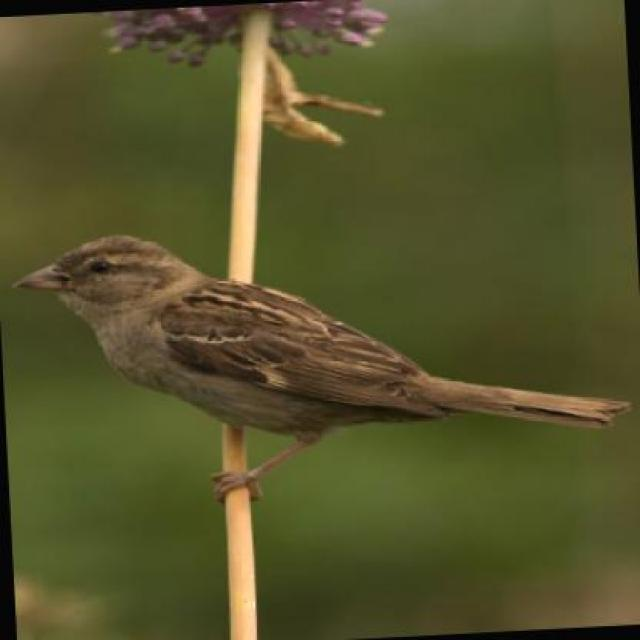Bird: (14, 214, 628, 477)
